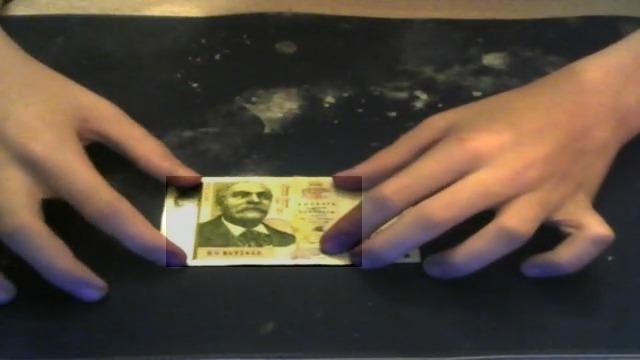10leva: (166, 176, 362, 267)
